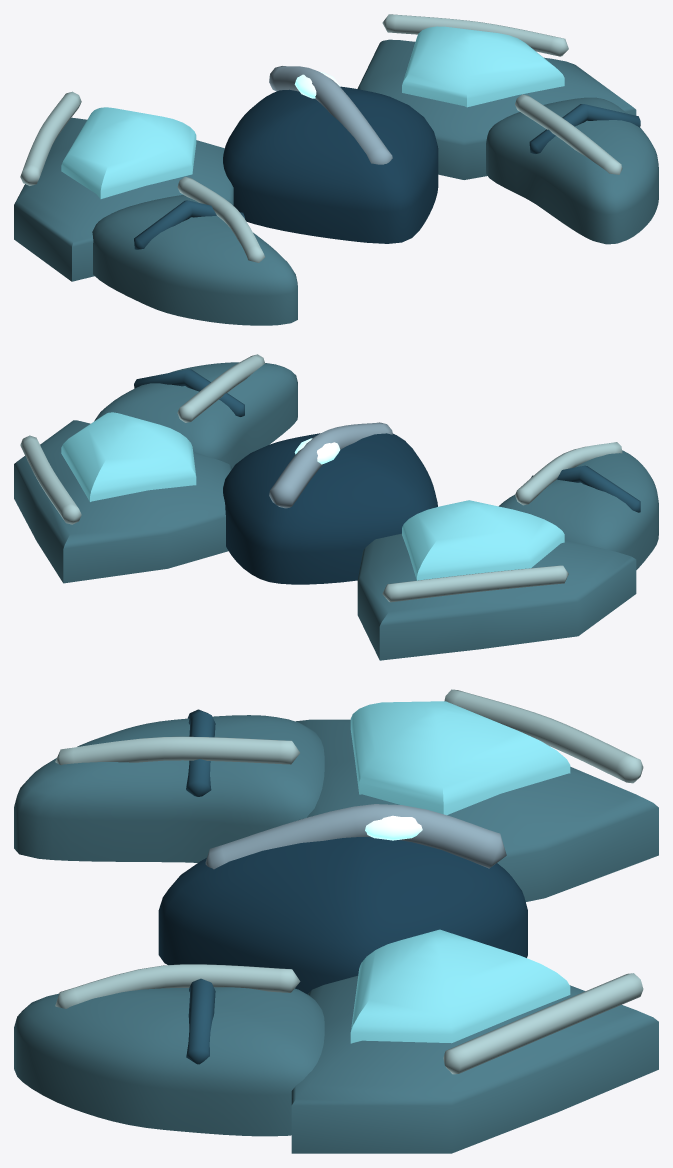
The model's file is sk_indigo.glb.
3 views of the same model, one above another, from view 1: azimuth 30°, elevation 25°; view 2: azimuth 150°, elevation 25°; view 3: azimuth 270°, elevation 25° (orthographic). The views are drawn at different scales.
Parts seen in each view (by area): view 1: hull, leg, leg_mirror, shield, panel_mirror, shield_mirror, panel, spine, rim_mirror, leg_rib_mirror, leg_rib, rim (+2 smaller); view 2: hull, shield, shield_mirror, leg_mirror, panel, leg, panel_mirror, rim, spine, leg_rib, rim_mirror, leg_rib_mirror (+3 smaller); view 3: hull, leg_mirror, shield_mirror, leg, shield, panel_mirror, panel, spine, rim_mirror, leg_rib, leg_rib_mirror, rim (+3 smaller).
Boxes of the visible parts, x1,y1,x2,y2 form: hull: [223, 86, 438, 243]; leg: [92, 195, 297, 325]; leg_mirror: [486, 97, 658, 244]; shield: [14, 117, 233, 281]; panel_mirror: [402, 26, 564, 107]; shield_mirror: [357, 39, 636, 179]; panel: [61, 107, 196, 198]; spine: [269, 66, 392, 164]; rim_mirror: [382, 14, 568, 56]; leg_rib_mirror: [515, 94, 622, 174]; leg_rib: [177, 176, 265, 262]; rim: [20, 91, 81, 185]; hull: [223, 433, 437, 584]; shield: [357, 533, 636, 660]; shield_mirror: [14, 420, 231, 583]; leg_mirror: [94, 362, 297, 468]; panel: [402, 500, 564, 580]; leg: [499, 450, 658, 569]; panel_mirror: [61, 412, 196, 501]; rim: [382, 565, 568, 602]; spine: [269, 422, 392, 508]; leg_rib: [515, 442, 622, 505]; rim_mirror: [20, 435, 81, 524]; leg_rib_mirror: [177, 354, 265, 422]; hull: [158, 837, 527, 994]; leg_mirror: [14, 987, 324, 1136]; shield_mirror: [291, 975, 658, 1153]; leg: [14, 715, 324, 862]; shield: [296, 719, 658, 901]; panel_mirror: [350, 929, 570, 1043]; panel: [350, 701, 570, 815]; spine: [205, 804, 506, 869]; rim_mirror: [443, 973, 643, 1074]; leg_rib: [55, 736, 299, 765]; leg_rib_mirror: [55, 964, 300, 1008]; rim: [444, 689, 643, 783].
Size of the model in its own units: 21.4 by 4.08 by 15.27.
